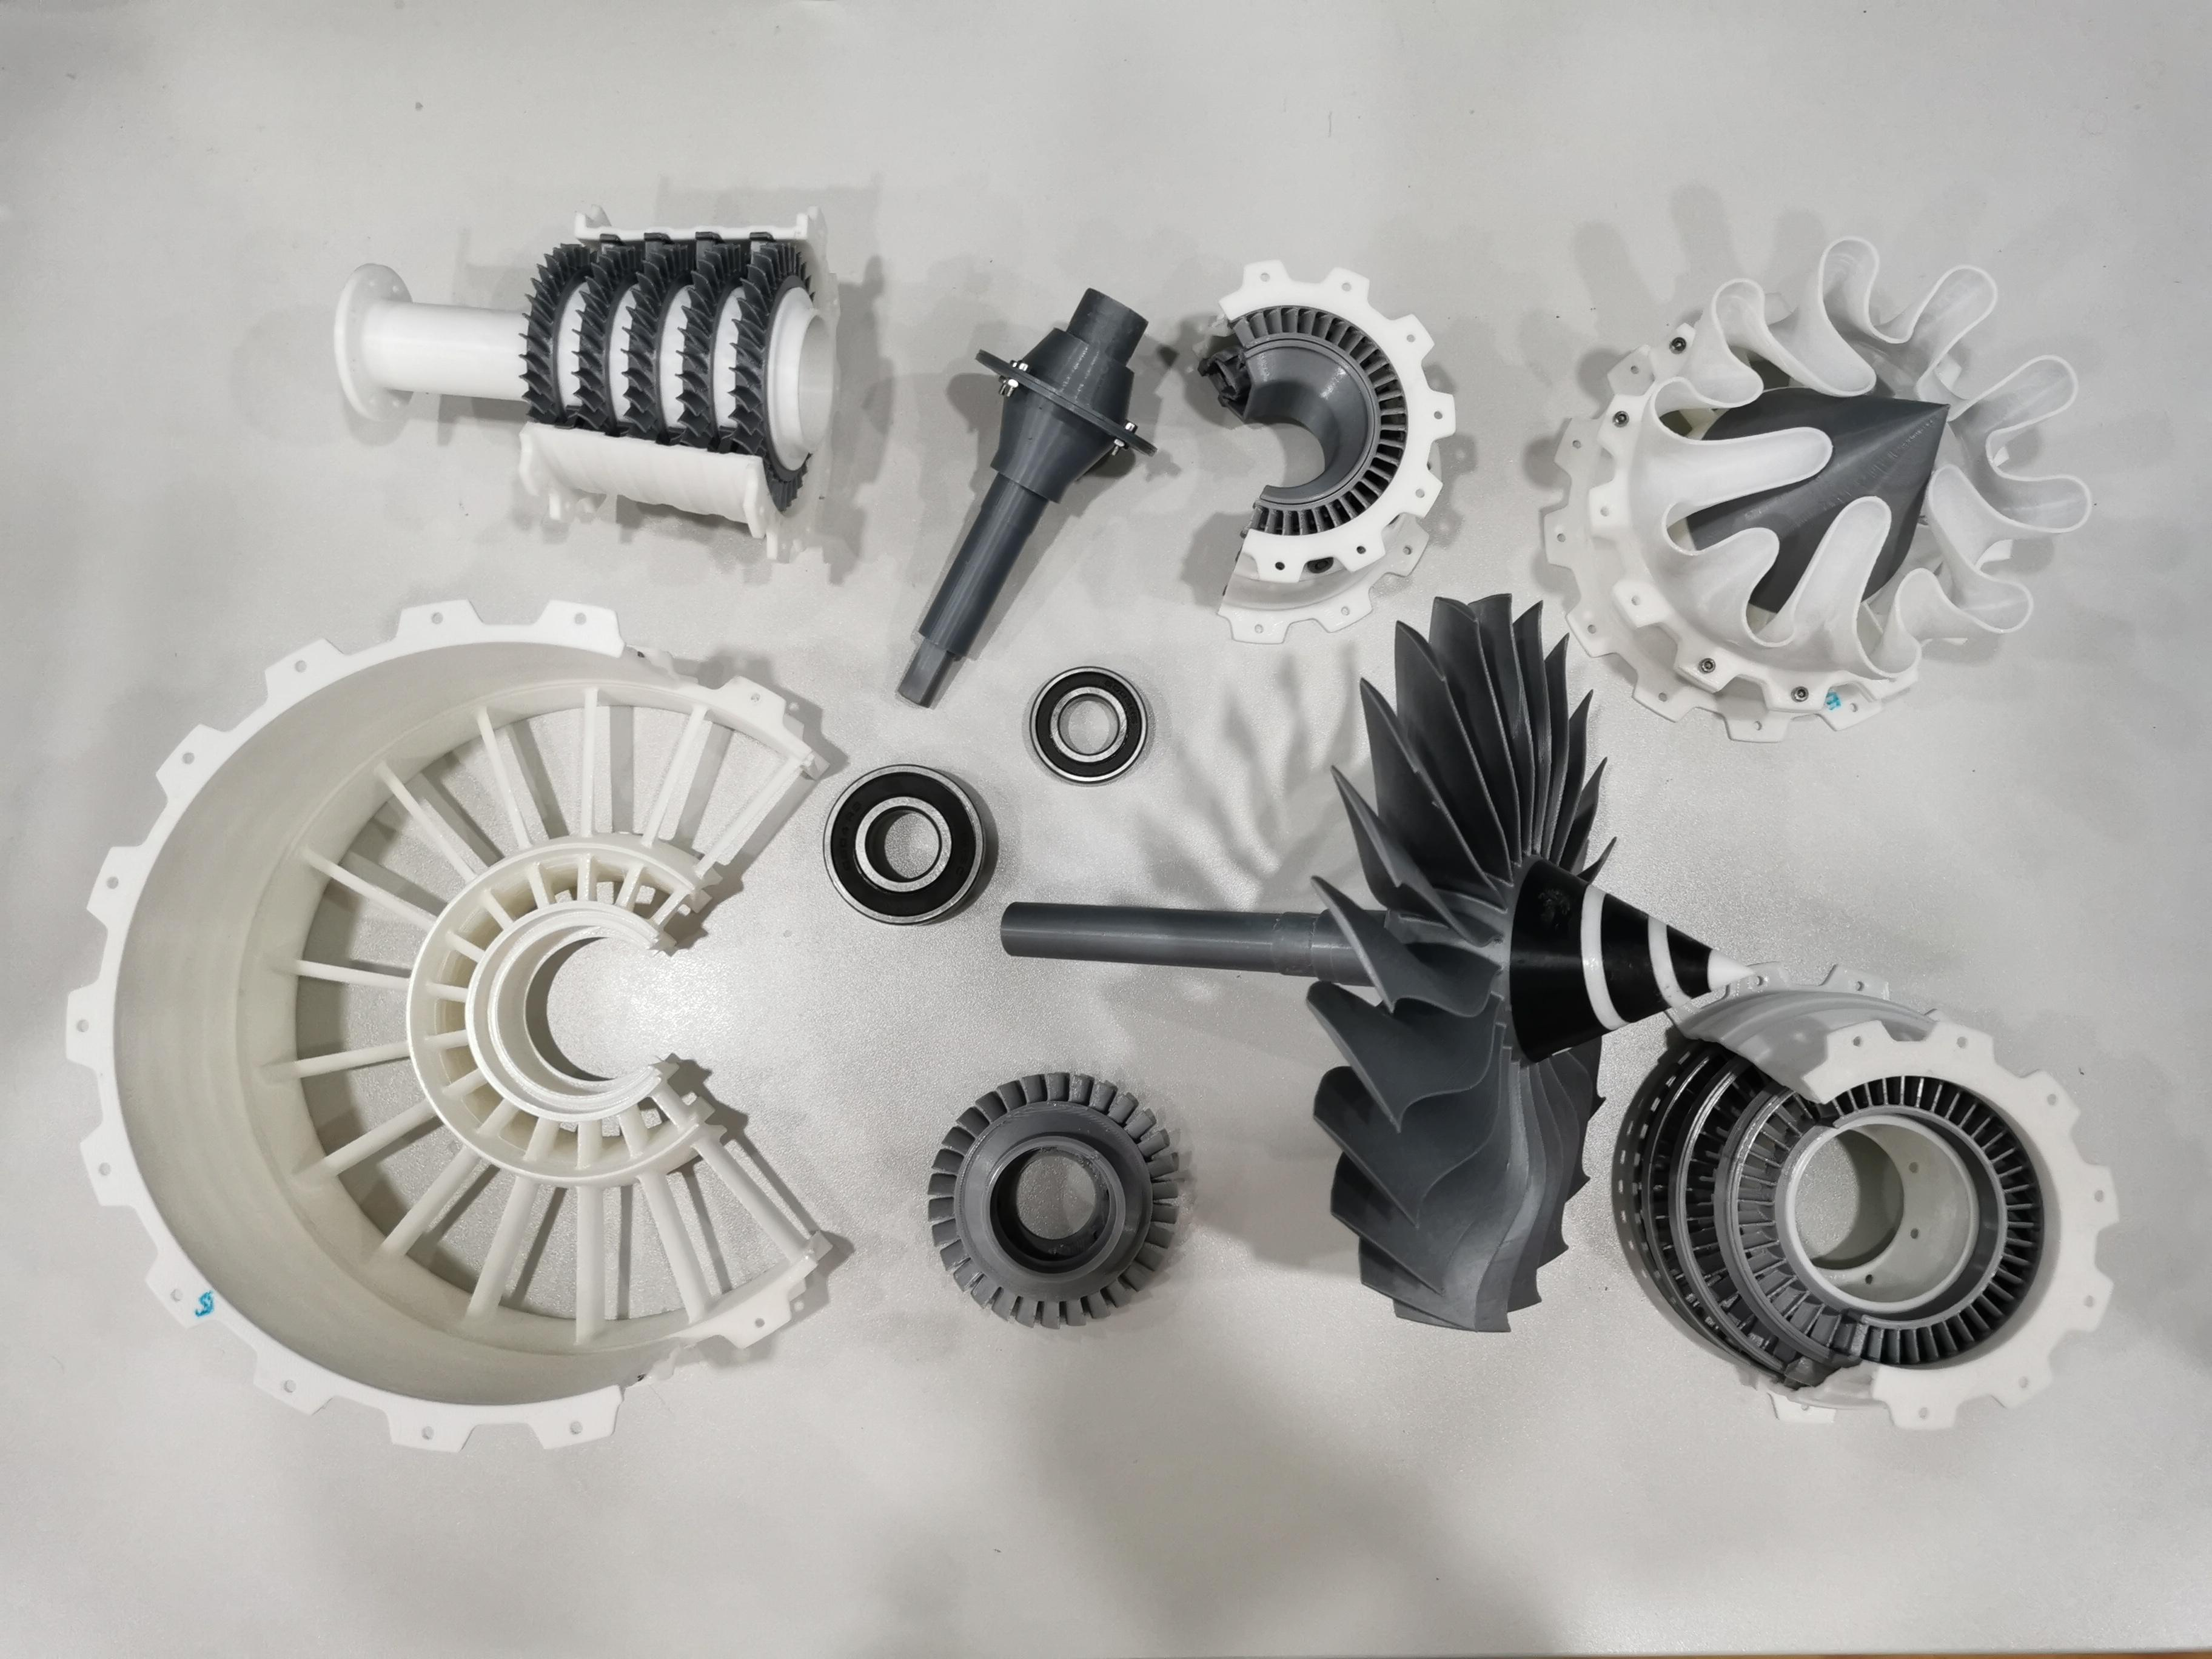Bearing-6003: (1017, 650, 1163, 803)
Bearing-6204: (806, 744, 1007, 941)
Combustion Section: (1177, 251, 1467, 648)
Fan Casing and Support: (56, 591, 845, 1462)
Fan and Low Pressure Shaft: (996, 591, 1763, 1354)
HPT Section: (911, 1056, 1200, 1352)
High Pressure Spool: (308, 197, 883, 570)
LPT Section: (1604, 951, 2123, 1443)
Low Pressure Spool: (864, 265, 1172, 713)
Nozzle Section: (1527, 232, 2106, 748)
